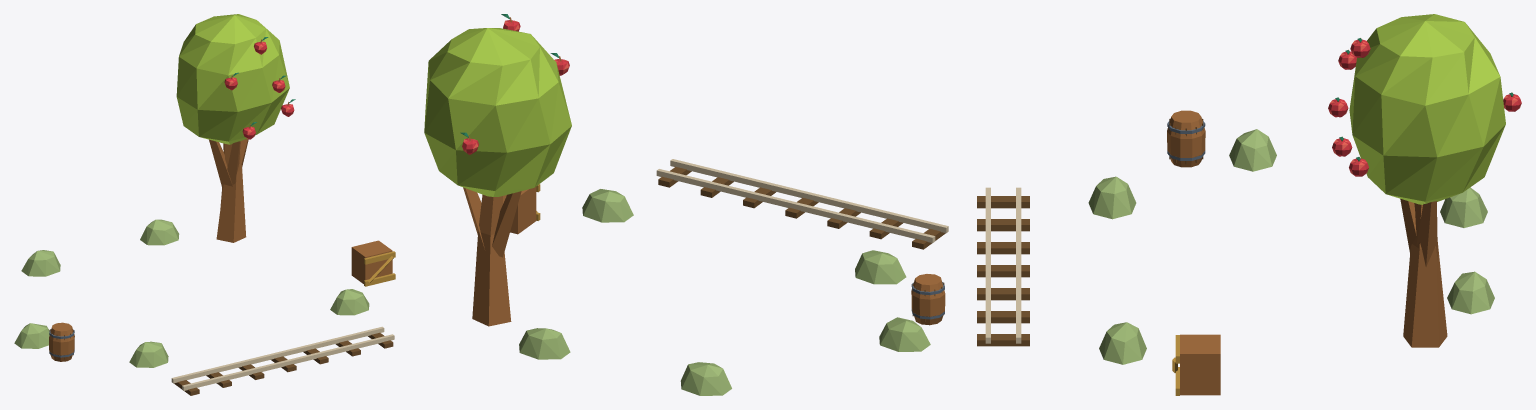
File: decoration.glb
The picture shows the model from 3 angles, left to right: view 1: azimuth 30°, elevation 25°; view 2: azimuth 150°, elevation 25°; view 3: azimuth 270°, elevation 25°; orthographic projection. The views are drawn at different scales.
Visible parts, largest first — view 1: Tree_Appleloosa_Apple, Decor_Appleloosa_RailAndProps, Rail_Appleloosa_DisplaySegment; view 2: Tree_Appleloosa_Apple, Decor_Appleloosa_RailAndProps, Rail_Appleloosa_DisplaySegment; view 3: Tree_Appleloosa_Apple, Decor_Appleloosa_RailAndProps, Rail_Appleloosa_DisplaySegment.
Boxes of the visible parts, x1,y1,x2,y2 form: Tree_Appleloosa_Apple: (176,14,295,242); Decor_Appleloosa_RailAndProps: (14,219,395,367); Rail_Appleloosa_DisplaySegment: (171,326,394,395); Tree_Appleloosa_Apple: (424,14,571,326); Decor_Appleloosa_RailAndProps: (506,184,945,395); Rail_Appleloosa_DisplaySegment: (656,159,948,249); Tree_Appleloosa_Apple: (1328,14,1521,347); Decor_Appleloosa_RailAndProps: (1088,110,1494,395); Rail_Appleloosa_DisplaySegment: (977,187,1029,346).
Size of the model in its own units: 1.68 by 1.01 by 1.55.
